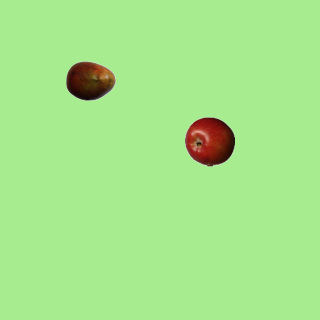Apple Braeburn: (184, 116, 234, 166)
Mango Red: (65, 55, 115, 105)
